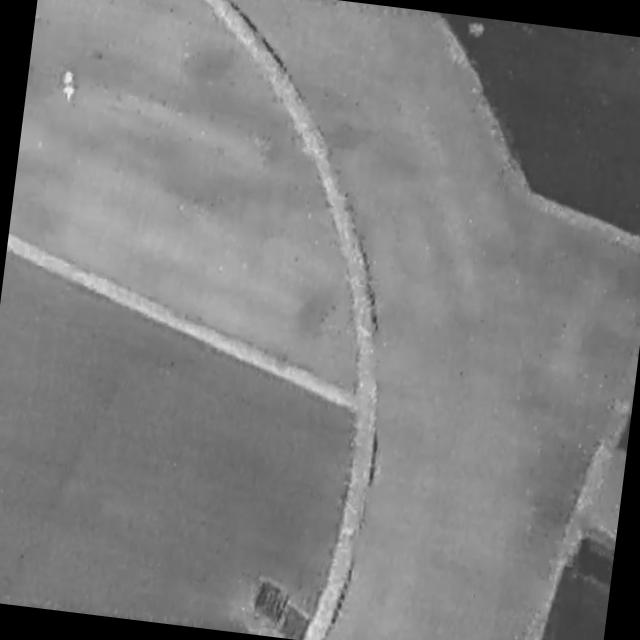person: (57, 68, 81, 104)
